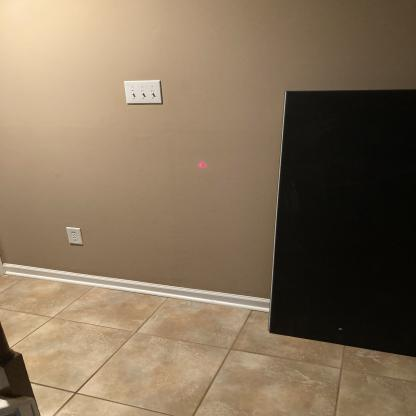target: (200, 161, 211, 168)
